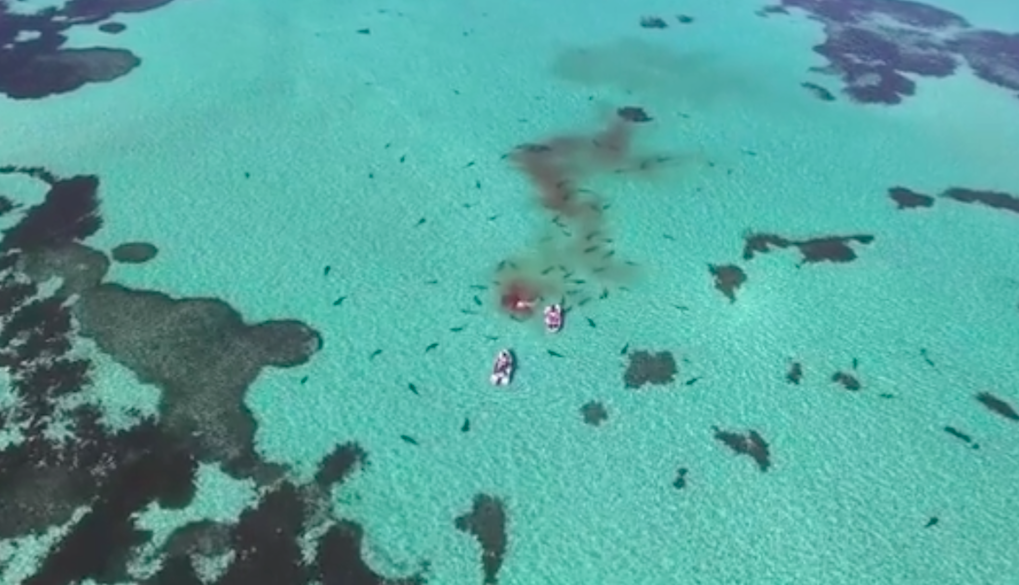shark: (386, 428, 423, 454), (541, 345, 578, 370), (360, 344, 396, 369), (453, 417, 485, 444), (309, 258, 340, 283), (465, 275, 493, 302), (399, 379, 427, 404), (656, 231, 688, 252), (482, 205, 508, 230), (443, 79, 470, 103), (449, 192, 479, 213), (480, 254, 505, 278), (670, 300, 696, 322), (536, 256, 559, 280), (466, 175, 491, 197), (924, 510, 944, 537), (331, 293, 356, 313), (579, 314, 604, 334), (456, 153, 478, 174), (456, 292, 489, 306), (553, 184, 576, 204), (419, 273, 447, 289), (410, 210, 431, 231), (478, 325, 500, 345), (683, 374, 705, 393), (445, 321, 469, 338), (602, 244, 622, 264), (376, 136, 395, 157), (575, 293, 593, 313), (509, 256, 527, 275), (598, 288, 615, 308), (578, 226, 600, 241), (460, 301, 478, 318), (589, 260, 608, 276), (397, 149, 411, 169), (569, 273, 589, 287), (296, 373, 317, 386), (426, 338, 440, 357), (600, 199, 614, 218), (620, 343, 636, 357), (578, 244, 600, 254), (546, 214, 562, 227)
